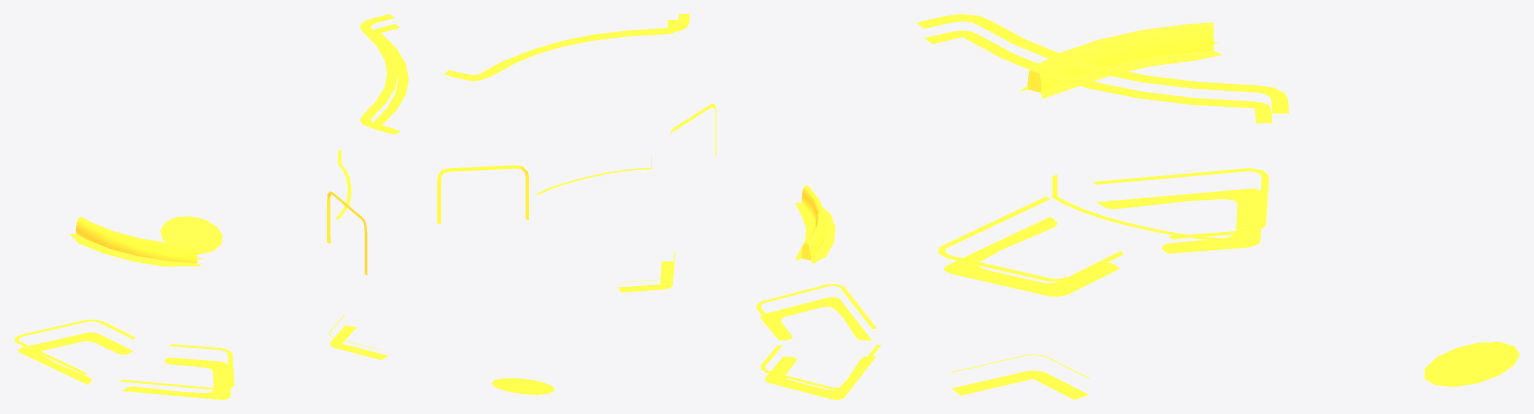
File: Arancione.glb
3 renders of one model, left to right at view 1: azimuth 30°, elevation 25°; view 2: azimuth 150°, elevation 25°; view 3: azimuth 270°, elevation 25°, orthographic. The views are drawn at different scales.
Parts seen in each view (by area): view 1: arancione_P1_g; view 2: arancione_P1_g; view 3: arancione_P1_g.
Boxes of the visible parts, box(x1,y1,x2,y2) form: arancione_P1_g: box(14, 14, 408, 399); arancione_P1_g: box(437, 14, 881, 399); arancione_P1_g: box(916, 14, 1519, 399).
Size of the model in its own units: 21.74 by 12.72 by 19.33.
